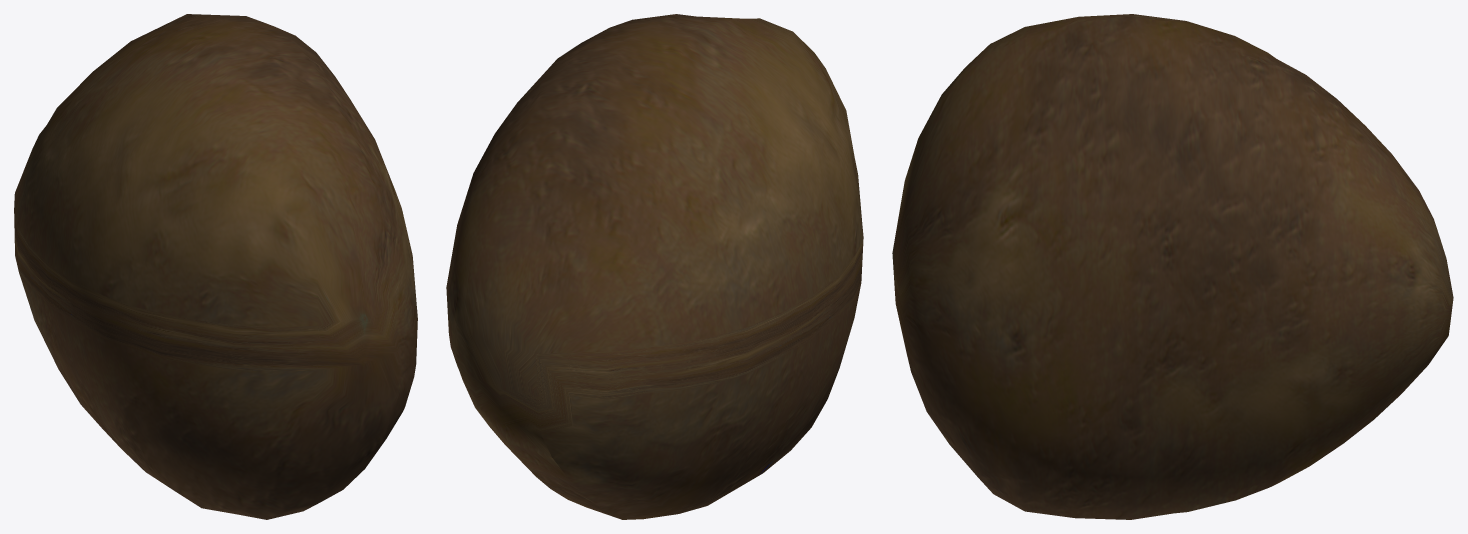
The model's file is texture_123-87.obj.
3 views of the same model, side by side, from view 1: azimuth 30°, elevation 25°; view 2: azimuth 150°, elevation 25°; view 3: azimuth 270°, elevation 25° (orthographic). The views are drawn at different scales.
Visible parts, largest first — view 1: texture_123-87; view 2: texture_123-87; view 3: texture_123-87.
Boxes of the visible parts, box(x1,y1,x2,y2) form: texture_123-87: box(14, 14, 417, 519); texture_123-87: box(446, 14, 863, 519); texture_123-87: box(892, 14, 1453, 519).
Size of the model in its own units: 0.0334 by 0.0467 by 0.0494.
1 material, 1 textured.
